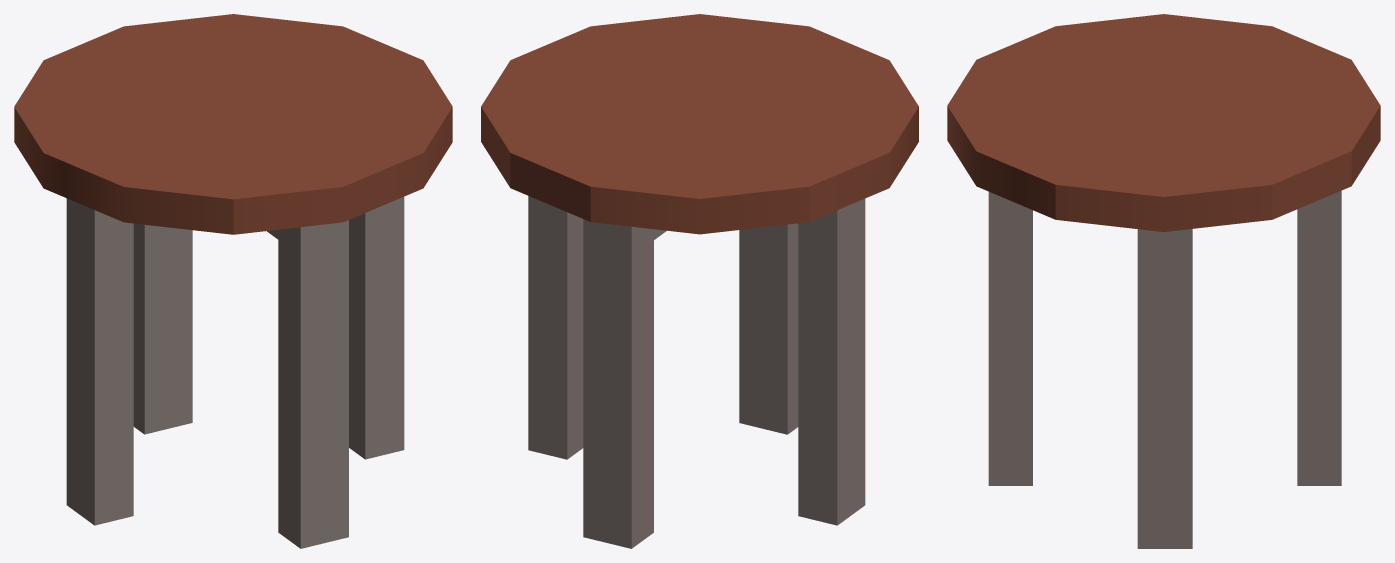
The model's file is BingoRoomStool.fbx.
3 views of the same model, side by side, from view 1: azimuth 30°, elevation 25°; view 2: azimuth 150°, elevation 25°; view 3: azimuth 270°, elevation 25° (orthographic).
Parts seen in each view (by area): view 1: BingoStoolLegs.001; view 2: BingoStoolLegs.001; view 3: BingoStoolLegs.001.
Part boxes in pixels (<box>): BingoStoolLegs.001: <box>14,14,452,548</box>; BingoStoolLegs.001: <box>481,14,918,548</box>; BingoStoolLegs.001: <box>947,14,1380,548</box>.
Size of the model in its own units: 36.71 by 34.36 by 36.71.
Materials: 1 (1 with a texture image).
